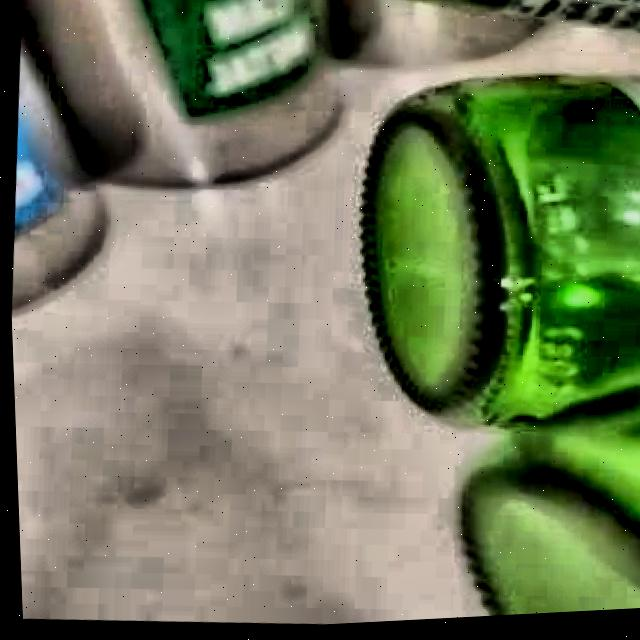glass: (360, 82, 640, 621)
